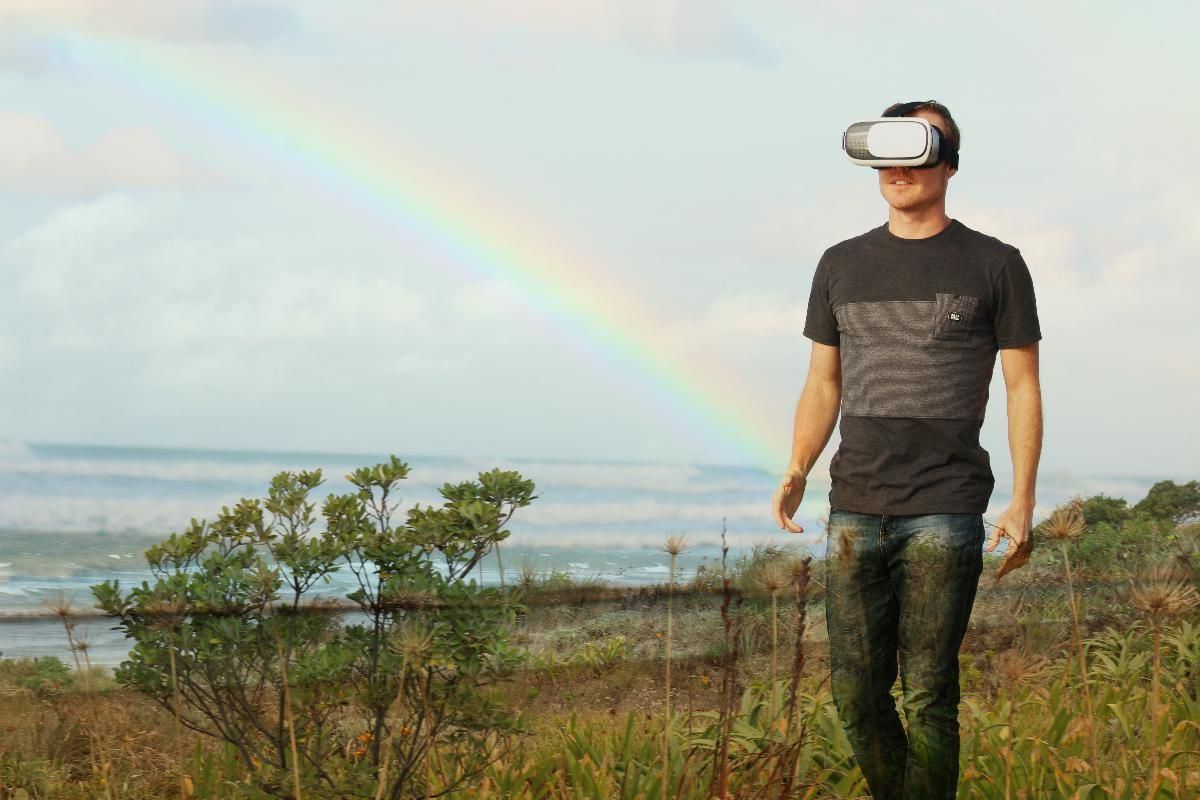Person: (762, 98, 1052, 800)
